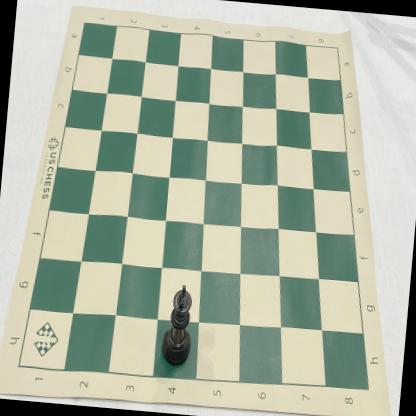king: (160, 283, 196, 369)
